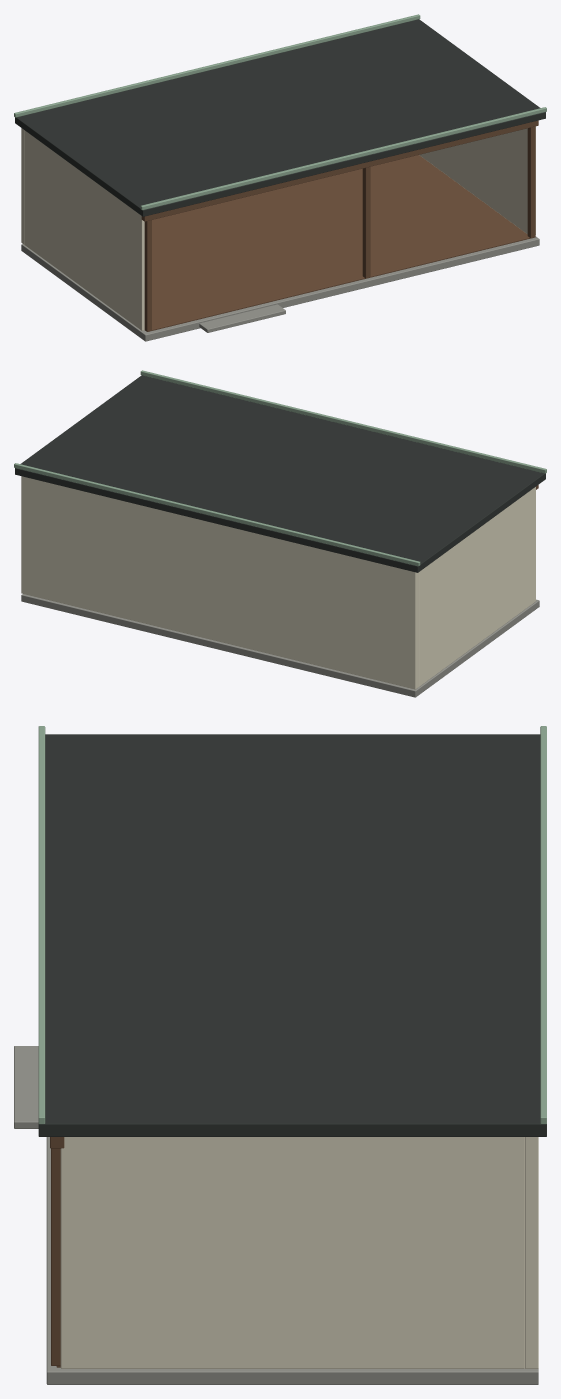
File: abandoned-telephone-exchange-roofed-exchange-building-21e40607__31972.glb
3 renders of one model, top to bottom at view 1: azimuth 30°, elevation 25°; view 2: azimuth 150°, elevation 25°; view 3: azimuth 270°, elevation 25°, orthographic. The views are drawn at different scales.
Parts seen in each view (by area): view 1: roofed-exchange-building; view 2: roofed-exchange-building; view 3: roofed-exchange-building.
Boxes of the visible parts, <box> form: roofed-exchange-building: <box>14,14,546,341</box>; roofed-exchange-building: <box>14,370,546,697</box>; roofed-exchange-building: <box>14,726,546,1384</box>.
Size of the model in its own units: 11.3 by 3.67 by 6.5.
